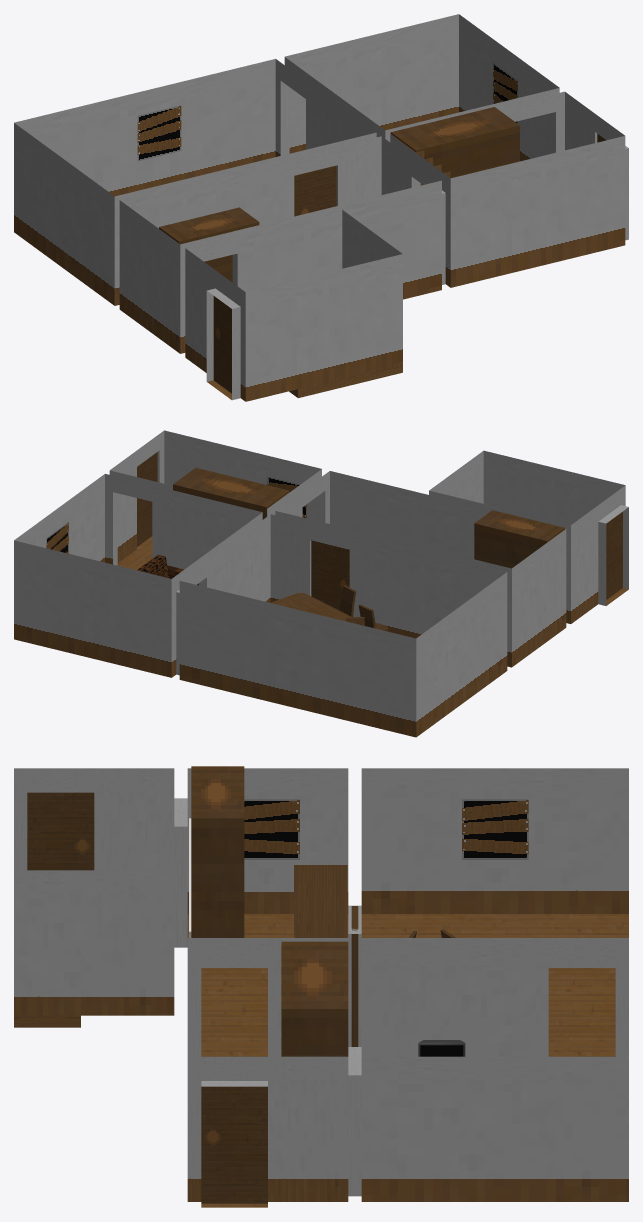
Rendered from house collisions.obj.
3 renders of one model, top to bottom at view 1: azimuth 30°, elevation 25°; view 2: azimuth 150°, elevation 25°; view 3: azimuth 270°, elevation 25°, orthographic. The views are drawn at different scales.
Parts seen in each view (by area): view 1: Wall, Cube, Windows, Cube.001, Door, Back_door, Floor; view 2: Wall, Cube.001, Cube, Door, Back_door, Front_door, Table, Windows, Floor, Sofa; view 3: Wall, Floor, Cube.001, Front_door, Cube, Windows, Back_door, Counter, Door, TV.
Part boxes in pixels (x1,y1,x2,y2): Wall: (14, 14, 628, 401); Cube: (390, 107, 519, 178); Windows: (137, 63, 517, 161); Cube.001: (159, 207, 259, 282); Door: (294, 165, 336, 216); Back_door: (213, 296, 231, 393); Floor: (207, 363, 402, 399); Wall: (14, 430, 628, 737); Cube.001: (474, 510, 564, 568); Cube: (173, 468, 289, 519); Door: (311, 540, 349, 610); Back_door: (606, 511, 622, 599); Front_door: (137, 452, 157, 546); Table: (270, 593, 351, 621); Windows: (46, 476, 306, 553); Floor: (117, 536, 628, 605); Sofa: (137, 554, 197, 584); Wall: (14, 768, 628, 1201); Floor: (14, 914, 628, 1207); Cube.001: (191, 766, 244, 937); Front_door: (201, 1086, 267, 1203); Cube: (281, 941, 348, 1056); Windows: (244, 799, 528, 859); Back_door: (27, 792, 94, 870); Counter: (294, 865, 347, 937); Door: (351, 906, 358, 1046); TV: (418, 1040, 465, 1056).
Bounding box in the file's own units: 10.6 × 2.64 × 9.2.
